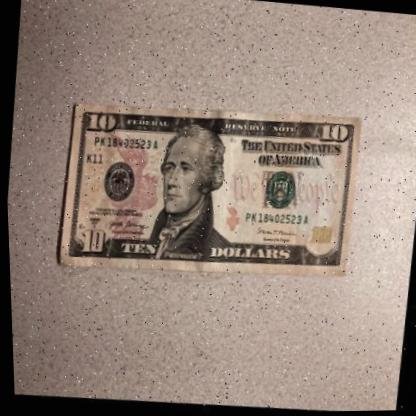ten-front: (52, 89, 368, 297)
